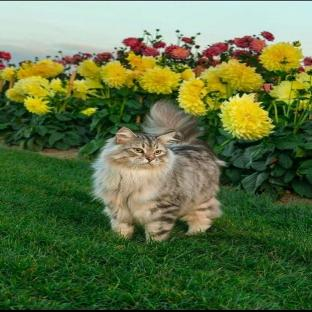Animal: (93, 101, 224, 241)
